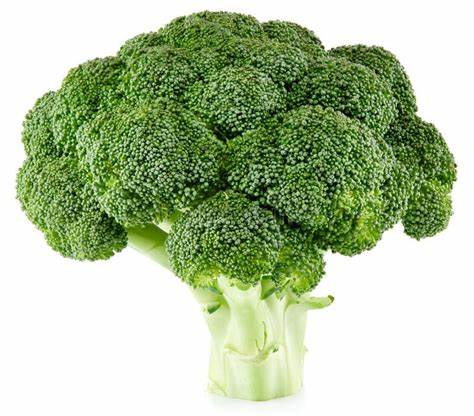Broccoli: (11, 9, 466, 412)
